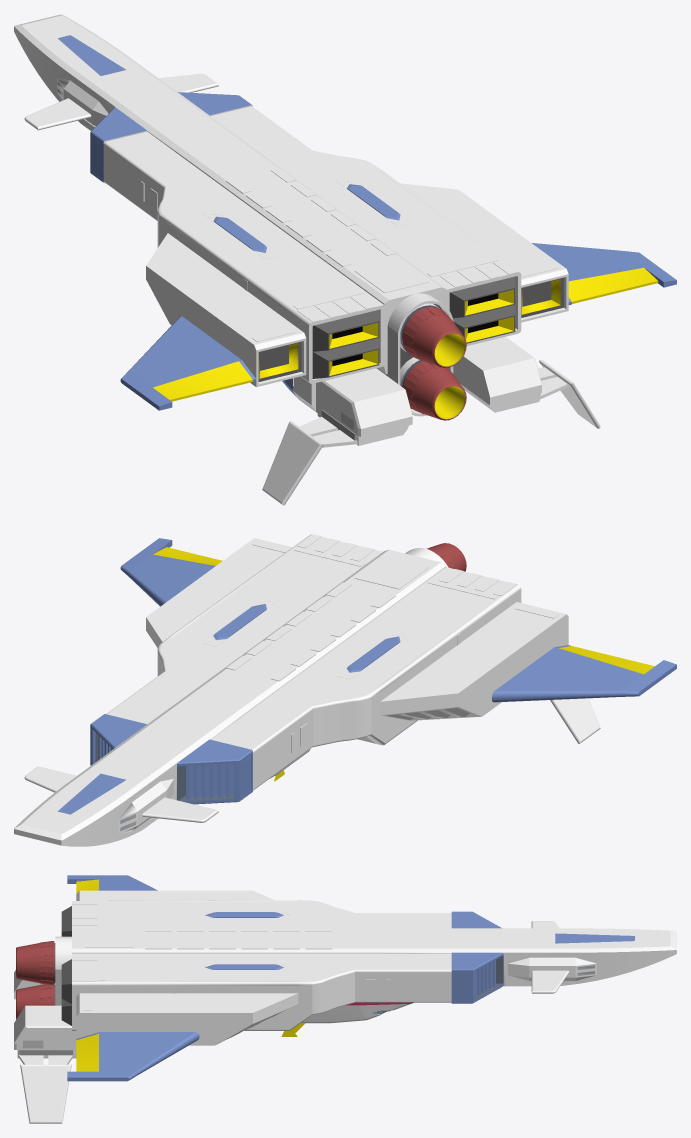
File: SuperMurdoch-0.fbx
3 views of the same model, one above another, from view 1: azimuth 30°, elevation 25°; view 2: azimuth 150°, elevation 25°; view 3: azimuth 270°, elevation 25° (orthographic). The views are drawn at different scales.
Visible parts, largest first — view 1: ID609, group_11 (×2), ID657, ID675, ID1065, ID1359, ID693, ID221, ID663, ID154, ID761, ID1113 (+16 smaller); view 2: ID609, ID657, ID693, ID675, ID1065, ID1359, ID1113, ID627, ID1371, ID1041, ID1425, ID565 (+15 smaller); view 3: ID609, ID675, group_11, ID693, ID1359, ID404, ID221, ID520, ID1371, ID1065, ID657, ID154 (+17 smaller).
Part boxes in pixels (x1=…): ID609: x1=14, y1=14, x2=568, y2=416; group_11 (×2): x1=293, y1=336, x2=541, y2=445; ID657: x1=120, y1=316, x2=256, y2=410; ID675: x1=532, y1=243, x2=676, y2=305; ID1065: x1=187, y1=281, x2=296, y2=341; ID1359: x1=456, y1=217, x2=558, y2=277; ID693: x1=90, y1=92, x2=251, y2=182; ID221: x1=402, y1=307, x2=466, y2=367; ID663: x1=153, y1=361, x2=252, y2=401; ID154: x1=402, y1=361, x2=466, y2=420; ID761: x1=568, y1=267, x2=658, y2=303; ID1113: x1=152, y1=239, x2=221, y2=286; ID609: x1=14, y1=534, x2=568, y2=846; ID657: x1=491, y1=645, x2=676, y2=702; ID693: x1=90, y1=714, x2=252, y2=804; ID675: x1=120, y1=538, x2=215, y2=606; ID1065: x1=450, y1=604, x2=558, y2=665; ID1359: x1=187, y1=540, x2=290, y2=599; ID1113: x1=393, y1=660, x2=483, y2=697; ID627: x1=186, y1=763, x2=233, y2=799; ID1371: x1=152, y1=596, x2=214, y2=638; ID1041: x1=43, y1=780, x2=138, y2=833; ID1425: x1=22, y1=771, x2=99, y2=828; ID565: x1=118, y1=779, x2=173, y2=833; ID609: x1=55, y1=890, x2=676, y2=1045; ID675: x1=67, y1=1032, x2=199, y2=1081; group_11: x1=14, y1=1005, x2=76, y2=1058; ID693: x1=451, y1=911, x2=503, y2=1003; ID1359: x1=83, y1=995, x2=195, y2=1010; ID404: x1=23, y1=1067, x2=68, y2=1109; ID221: x1=16, y1=941, x2=54, y2=985; ID520: x1=508, y1=957, x2=596, y2=980; ID1371: x1=203, y1=995, x2=286, y2=1010; ID1065: x1=83, y1=892, x2=195, y2=900; ID657: x1=67, y1=875, x2=157, y2=890; ID154: x1=16, y1=984, x2=54, y2=1019.
Bounding box in the file's own units: 3.55 × 1.01 × 4.91.
